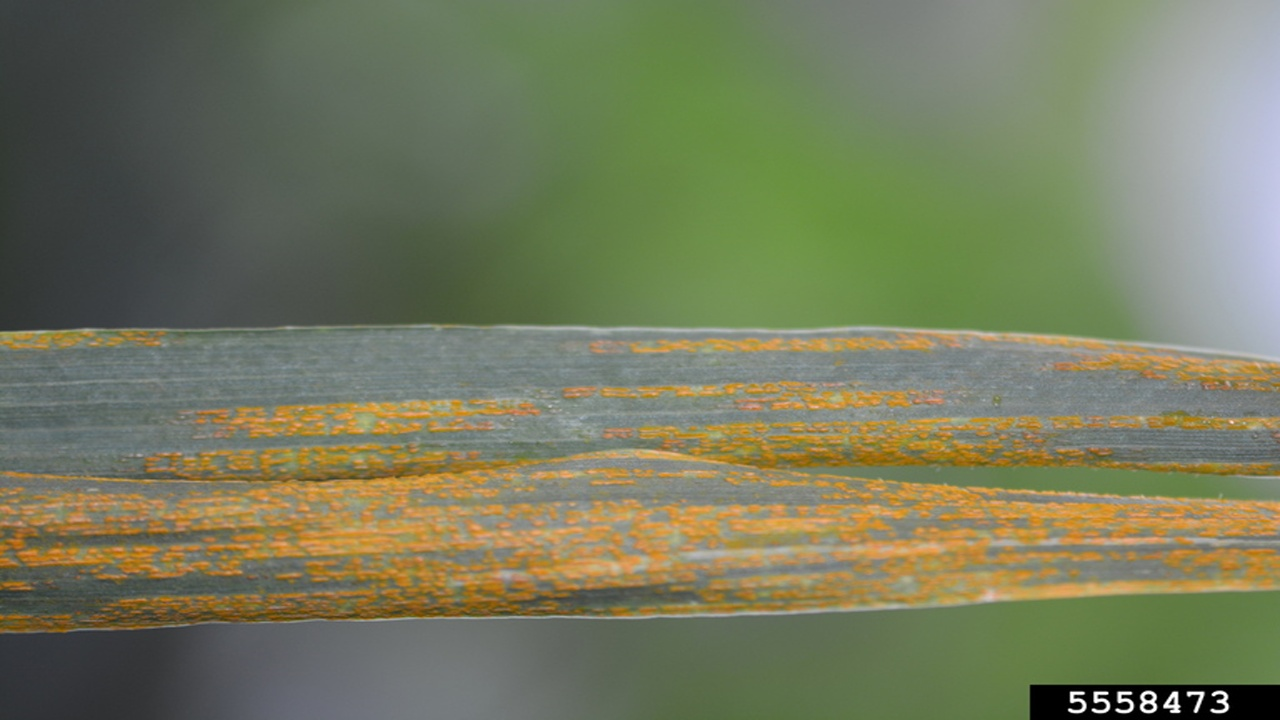stripe_rust: (2, 325, 1279, 636)
